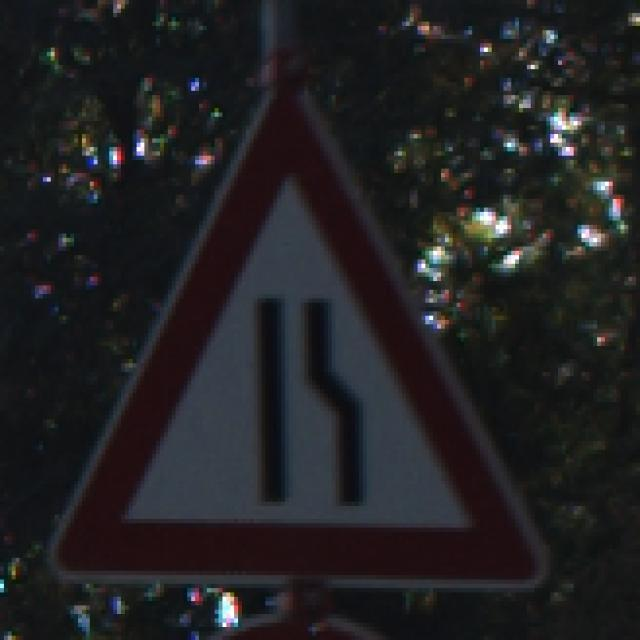narrow road ahead: (57, 87, 538, 588)
